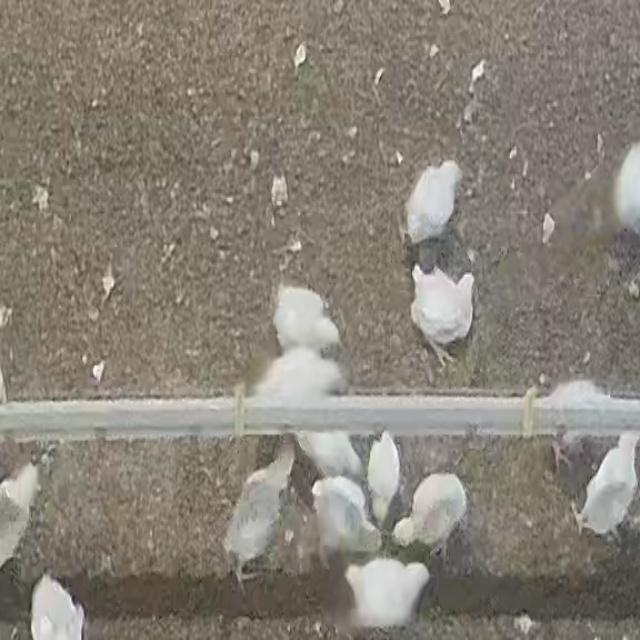chicken: (221, 438, 296, 595), (341, 555, 432, 634), (575, 432, 640, 539), (537, 380, 637, 447), (309, 475, 382, 566), (410, 263, 475, 365), (255, 350, 345, 420), (395, 472, 467, 551), (0, 460, 41, 579), (271, 285, 341, 354), (407, 159, 460, 246), (29, 574, 87, 640), (295, 430, 363, 484), (366, 429, 402, 526)
